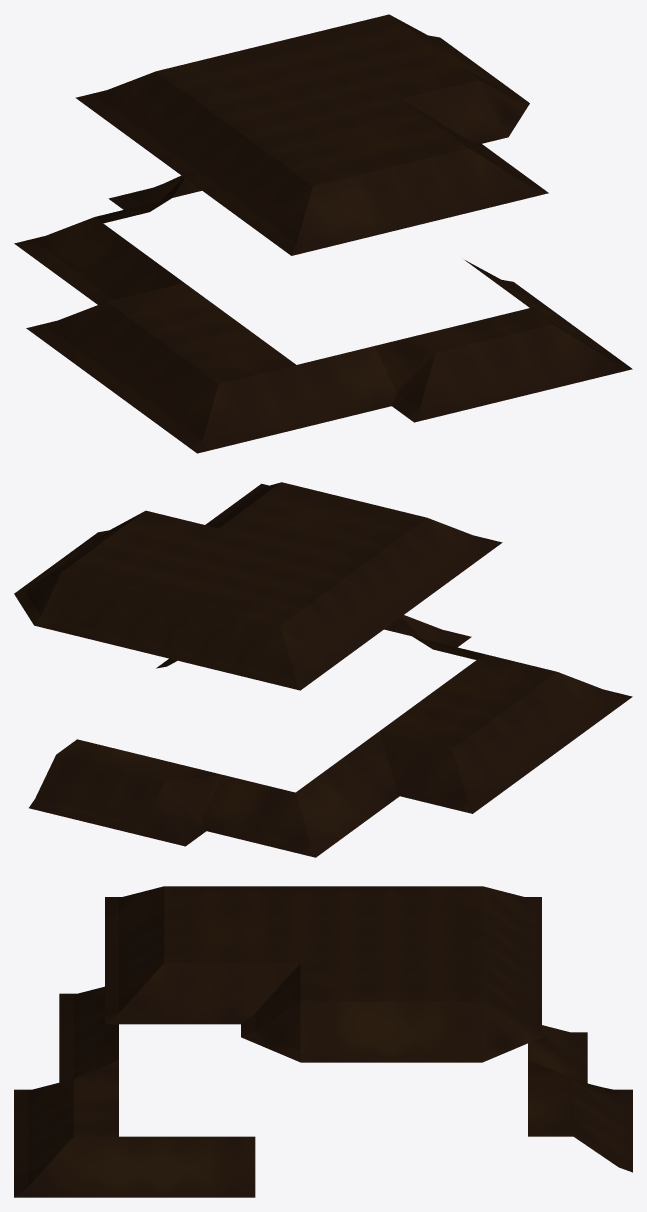
Rendered from SM_TutorialIsland_A_Roof.fbx.
3 views of the same model, one above another, from view 1: azimuth 30°, elevation 25°; view 2: azimuth 150°, elevation 25°; view 3: azimuth 270°, elevation 25° (orthographic). The views are drawn at different scales.
Visible parts, largest first — view 1: Object006; view 2: Object006; view 3: Object006.
Part boxes in pixels (<box>): Object006: <box>14,14,632,453</box>; Object006: <box>14,482,632,857</box>; Object006: <box>14,886,632,1197</box>.
Size of the model in its own units: 1162 by 463 by 1362.
